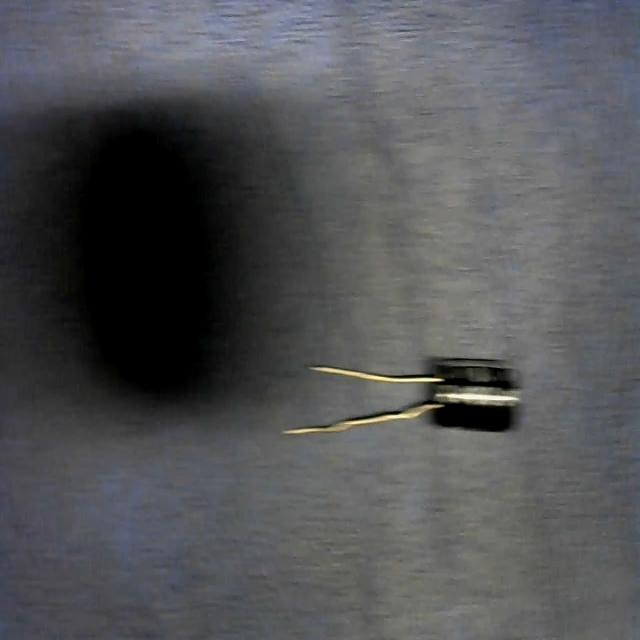capacitor: (276, 361, 521, 436)
